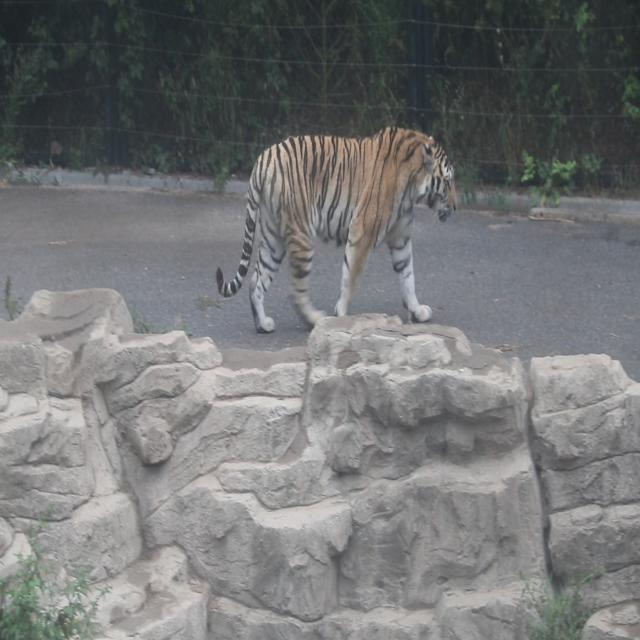Tiger: (213, 96, 480, 357)
